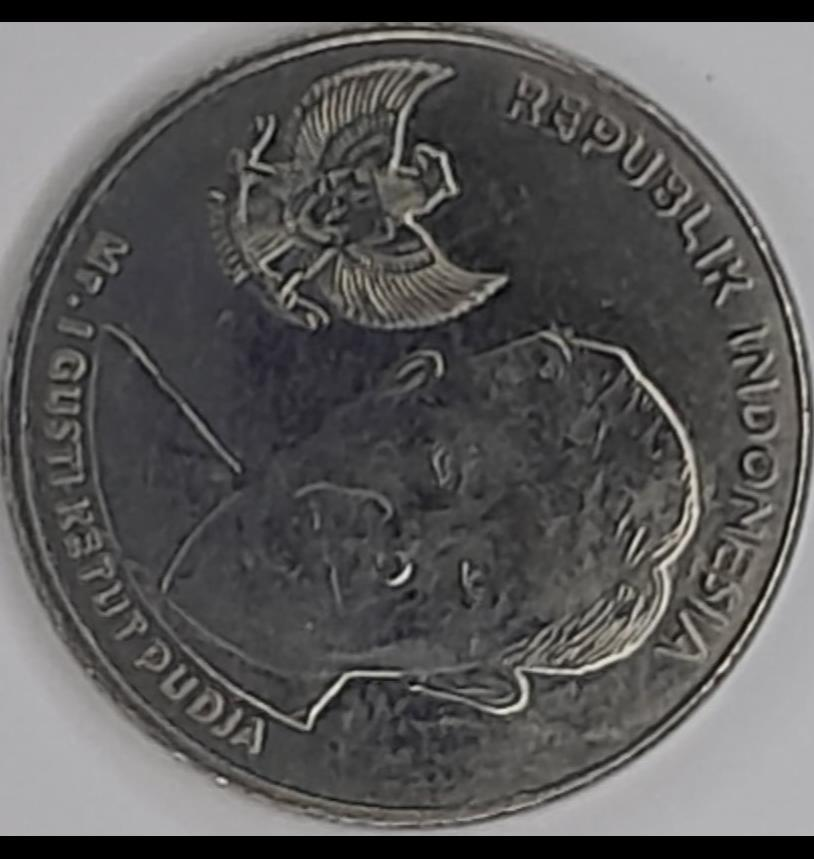coin_1000_e2016: (14, 17, 803, 859)
